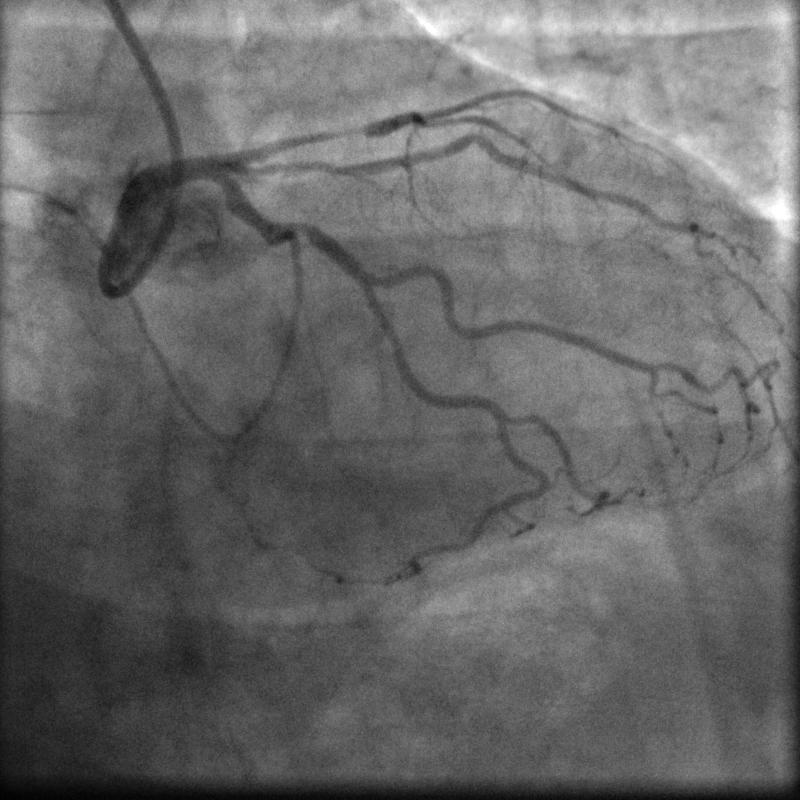Stenosis: (287, 217, 320, 244)
